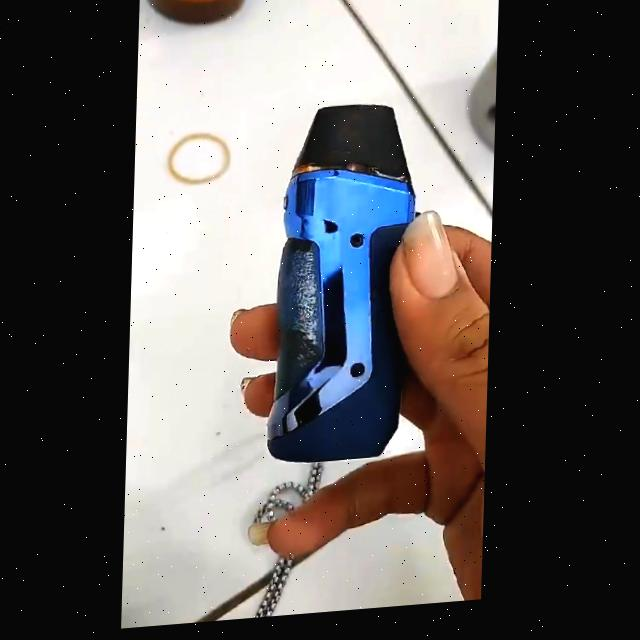vape: (271, 106, 420, 472)
